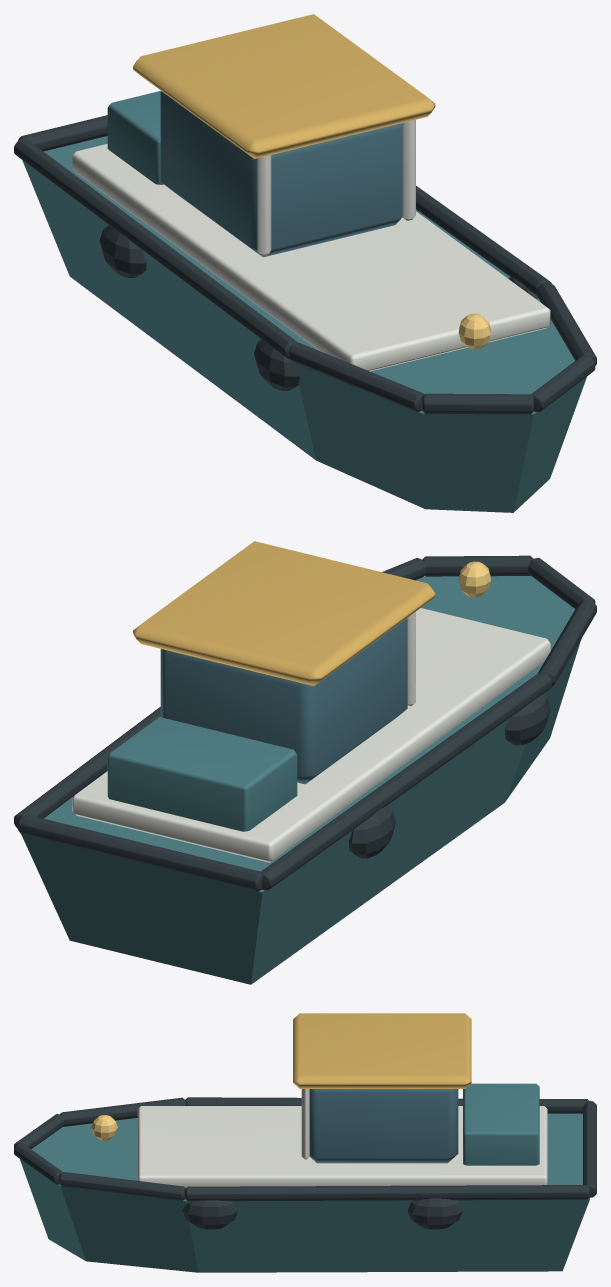
File: HarborTug.glb
3 views of the same model, one above another, from view 1: azimuth 30°, elevation 25°; view 2: azimuth 150°, elevation 25°; view 3: azimuth 270°, elevation 25° (orthographic). The views are drawn at different scales.
Parts seen in each view (by area): view 1: Launch hull, Launch deck, Ochre cabin roof, Small wheelhouse, Gunwale.013, Engine cover, Gunwale.008, Gunwale.012, Gunwale.011, Gunwale.009, Gunwale.007, Launch fender.001 (+5 smaller); view 2: Launch hull, Ochre cabin roof, Launch deck, Small wheelhouse, Engine cover, Gunwale.013, Gunwale.007, Gunwale.008, Gunwale.010, Gunwale.012, Launch fender.001, Launch fender (+4 smaller); view 3: Launch hull, Launch deck, Ochre cabin roof, Small wheelhouse, Engine cover, Gunwale.008, Gunwale.009, Gunwale.013, Launch fender.003, Gunwale.012, Launch fender.002, Gunwale.007 (+4 smaller).
Part boxes in pixels (<box>): Launch hull: <box>22,136,586,512</box>; Launch deck: <box>72,144,550,371</box>; Ochre cabin roof: <box>133,14,435,158</box>; Small wheelhouse: <box>160,91,402,257</box>; Gunwale.013: <box>14,138,297,359</box>; Engine cover: <box>107,91,163,184</box>; Gunwale.008: <box>416,186,551,295</box>; Gunwale.012: <box>288,342,424,412</box>; Gunwale.011: <box>422,393,533,414</box>; Gunwale.009: <box>536,282,596,365</box>; Gunwale.007: <box>18,115,107,151</box>; Launch fender.001: <box>99,225,146,277</box>; Launch hull: <box>21,576,581,984</box>; Ochre cabin roof: <box>133,541,435,685</box>; Launch deck: <box>72,608,550,862</box>; Small wheelhouse: <box>160,618,407,784</box>; Engine cover: <box>107,717,297,831</box>; Gunwale.013: <box>261,672,551,890</box>; Gunwale.007: <box>17,814,262,891</box>; Gunwale.008: <box>14,707,160,828</box>; Gunwale.010: <box>422,555,533,576</box>; Gunwale.012: <box>537,599,596,685</box>; Launch fender.001: <box>348,805,395,858</box>; Launch fender: <box>505,694,550,745</box>; Launch hull: <box>20,1113,589,1272</box>; Launch deck: <box>137,1106,547,1187</box>; Ochre cabin roof: <box>293,1013,471,1088</box>; Small wheelhouse: <box>309,1089,458,1163</box>; Engine cover: <box>463,1083,539,1165</box>; Gunwale.008: <box>185,1185,589,1201</box>; Gunwale.009: <box>59,1172,185,1200</box>; Gunwale.013: <box>185,1097,588,1113</box>; Launch fender.003: <box>407,1198,462,1229</box>; Gunwale.012: <box>60,1097,185,1126</box>; Launch fender.002: <box>183,1200,237,1229</box>; Gunwale.007: <box>583,1101,596,1197</box>.
Bounding box in the file's own units: 1.77 × 1.63 × 4.41.
